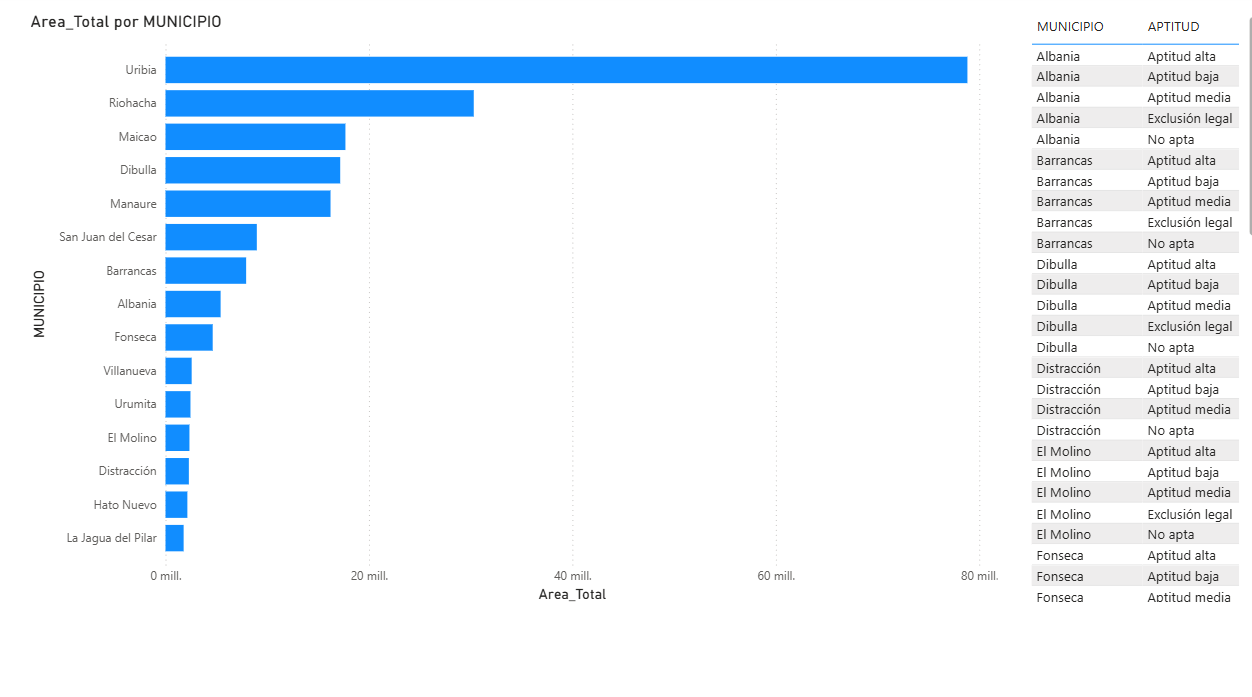

The page's visual inventory and layout, read from the dashboard file:
{"tool":"powerbi","page":{"name":"Página 2","canvas":[1280,720],"ordinal":1},"visuals":[{"type":"barChart","fields":{"Category":["Cacao.MUNICIPIO"],"Y":["Cacao.Area_Total"]},"box":[28.3,18.9,986.5,600.9],"z":0},{"type":"tableEx","fields":{"Values":["Cacao.MUNICIPIO","Cacao.APTITUD"]},"box":[1039.4,18.9,240,600.9],"z":1000}]}

Visuals, with their boxes in screenshot pixels (x1, y1, x2, y2), scaled from the page's 1280x720 canvas onto the 1252x697 screenshot:
barChart - Cacao.MUNICIPIO x Cacao.Area_Total: BBox(28, 18, 993, 600)
tableEx - Cacao.MUNICIPIO x Cacao.APTITUD: BBox(1017, 18, 1251, 600)
